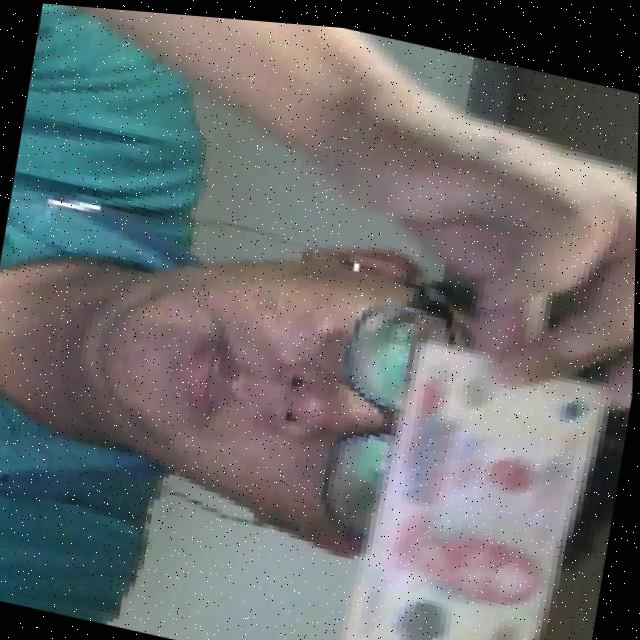200 000 VND: (342, 314, 629, 640)
